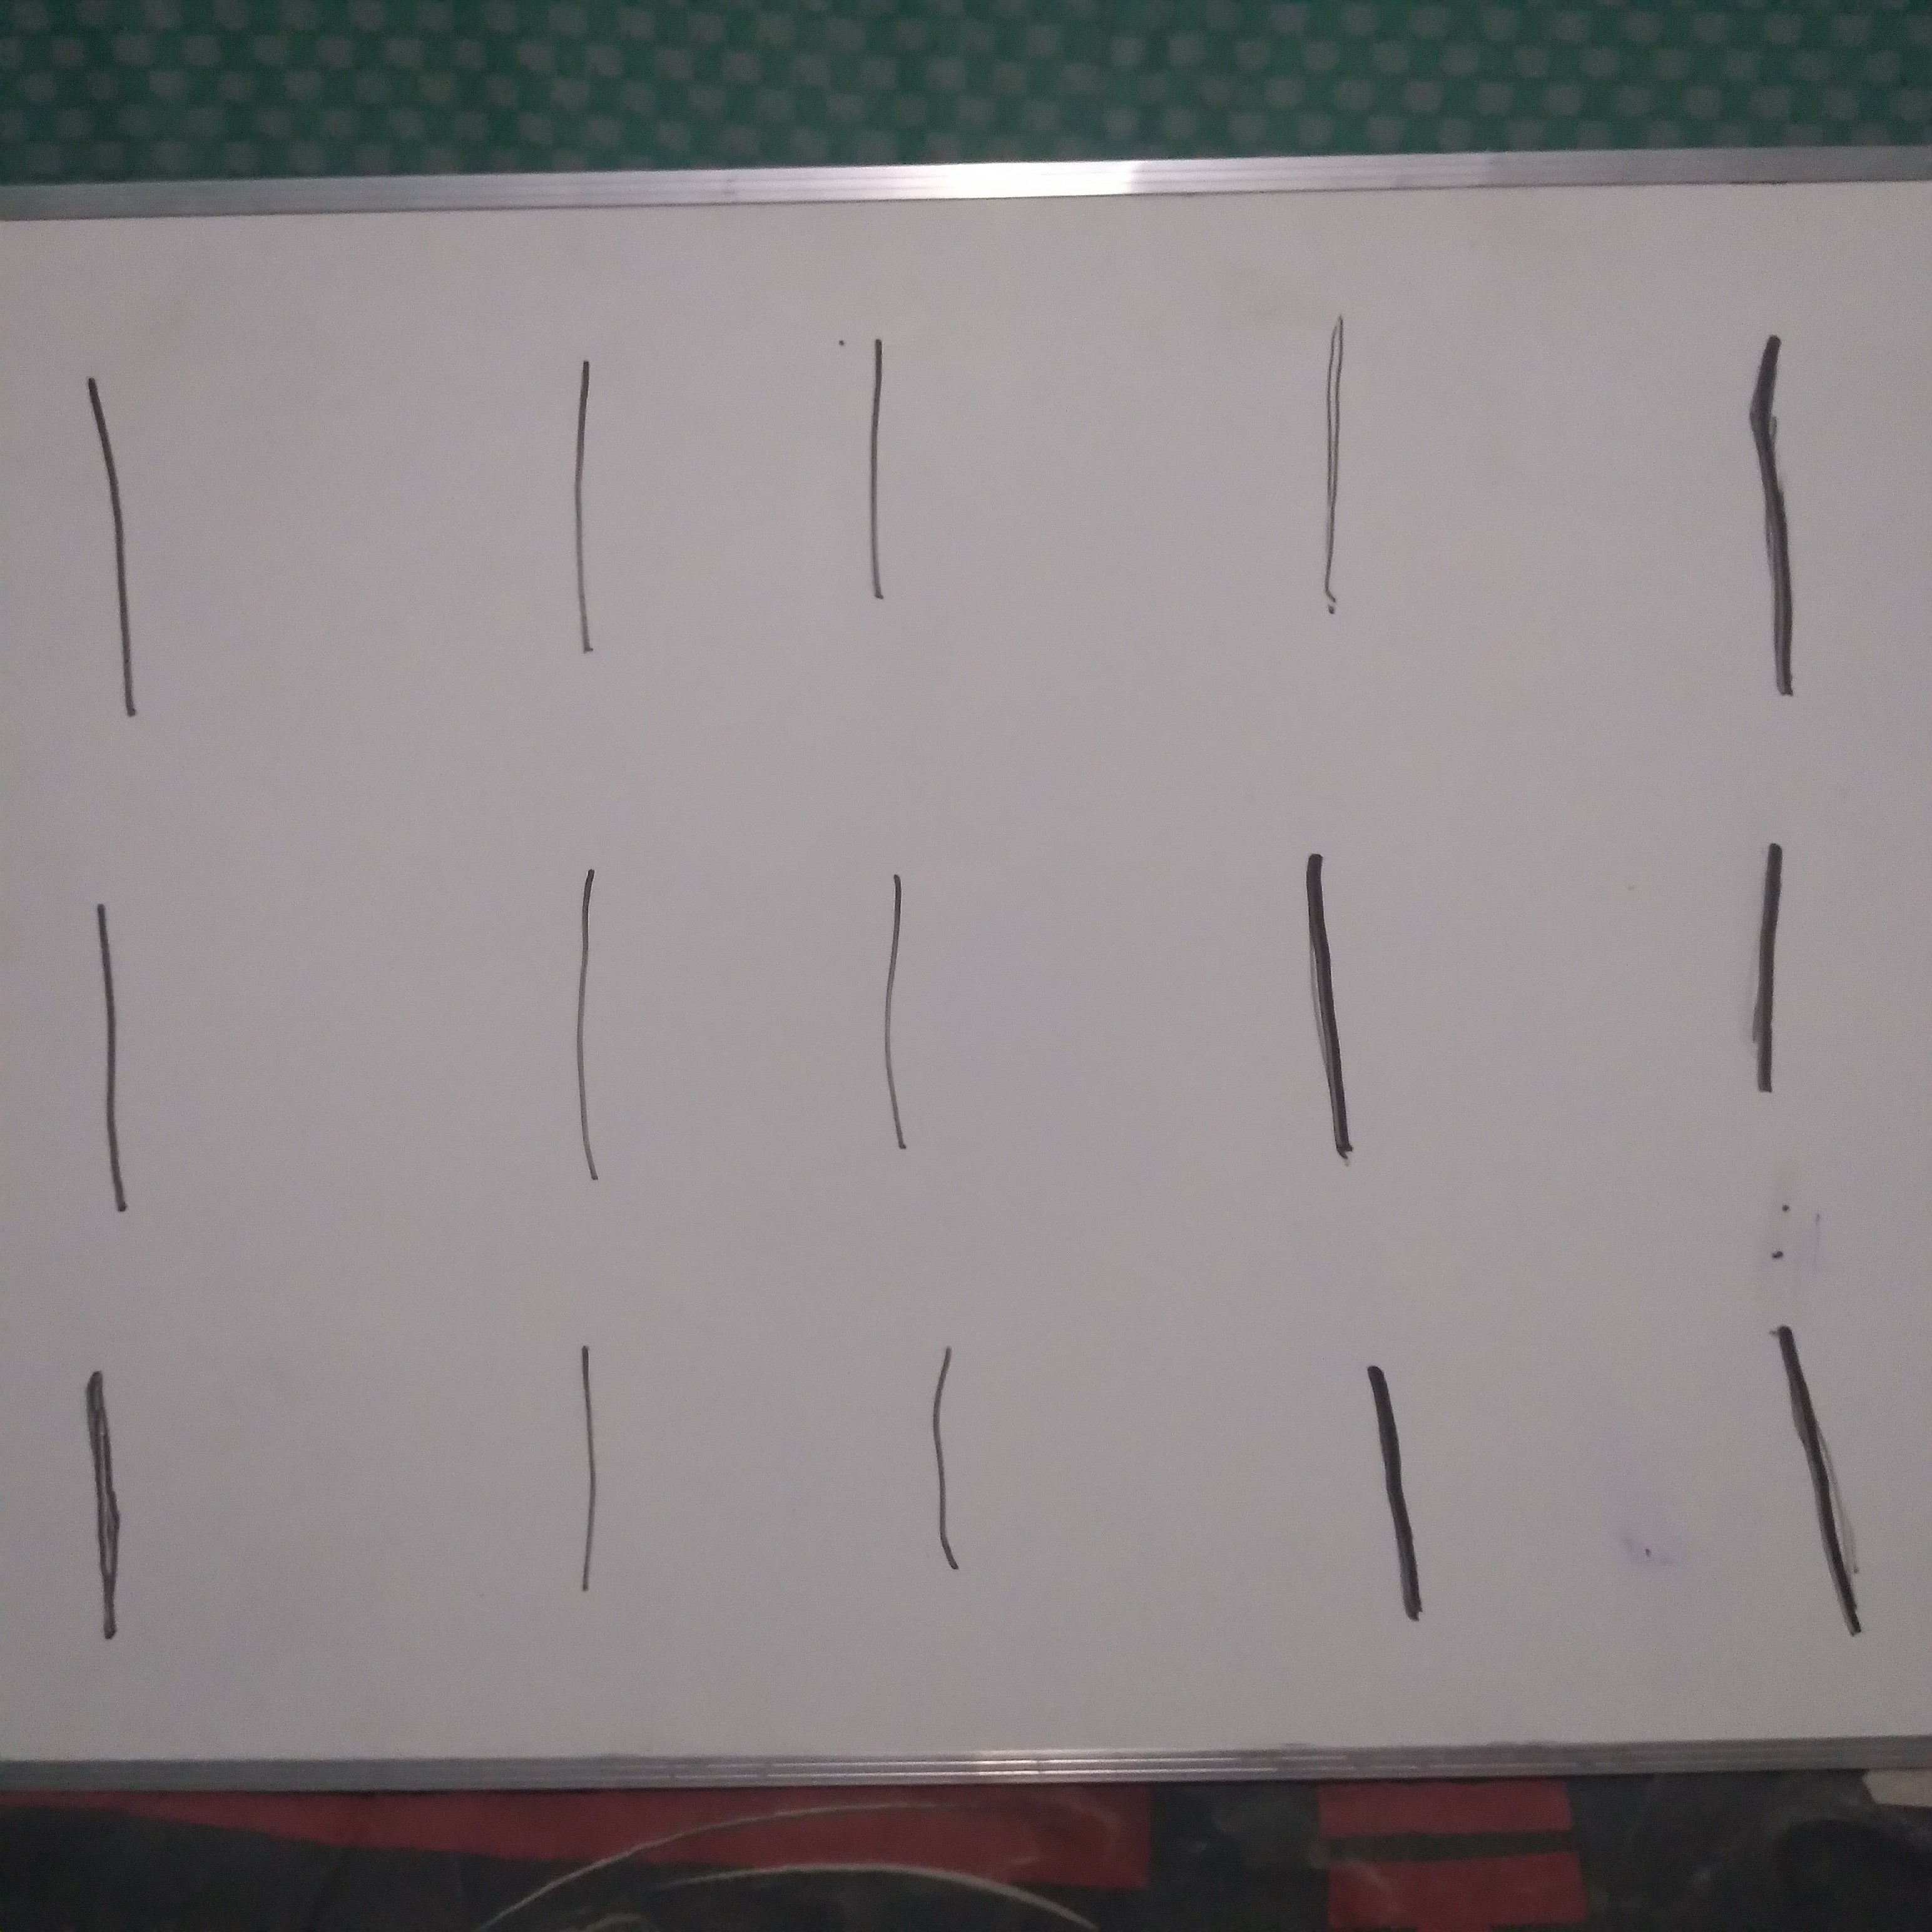num1: (1757, 1261, 1870, 1693), (1724, 298, 1837, 730), (63, 366, 166, 725), (529, 1291, 633, 1650), (74, 878, 177, 1237), (56, 1314, 160, 1674), (522, 852, 625, 1211), (544, 334, 648, 693), (826, 313, 929, 672), (853, 845, 956, 1204), (888, 1275, 991, 1634), (1270, 836, 1373, 1195), (1275, 268, 1378, 627), (1704, 759, 1807, 1118), (1338, 1296, 1441, 1655)
